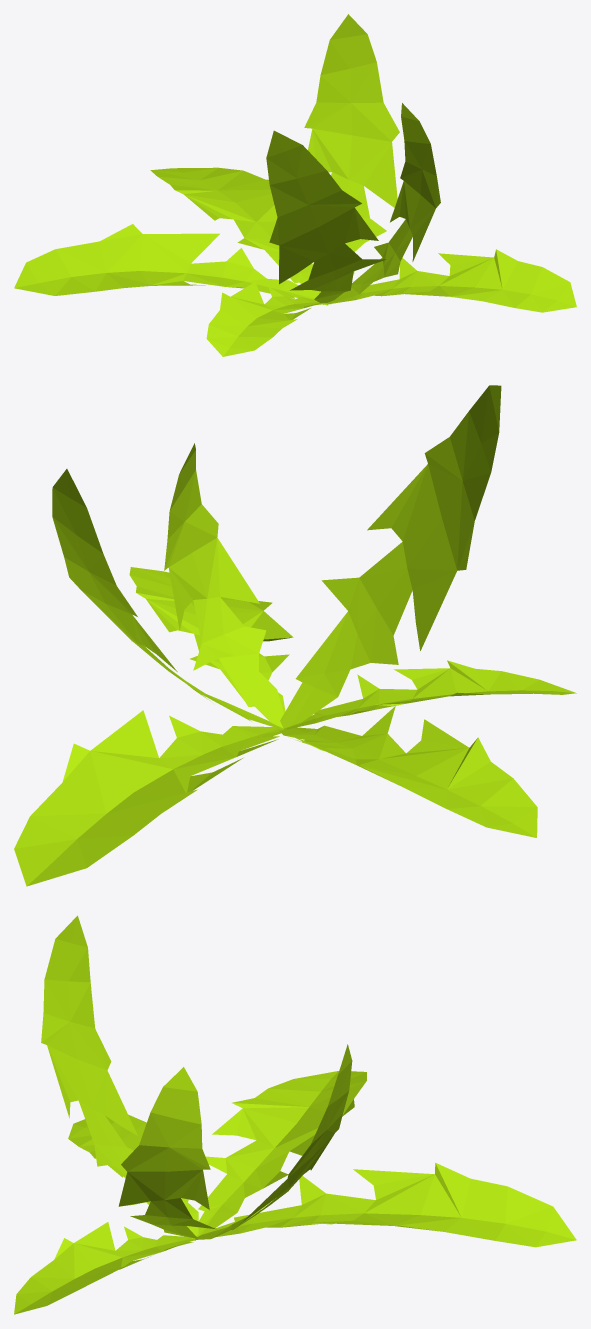
Rendered from plant.dae.
3 renders of one model, top to bottom at view 1: azimuth 30°, elevation 25°; view 2: azimuth 150°, elevation 25°; view 3: azimuth 270°, elevation 25°, orthographic. The views are drawn at different scales.
Visible parts, largest first — view 1: Big_Plant; view 2: Big_Plant; view 3: Big_Plant.
Part boxes in pixels (x1=…): Big_Plant: x1=14, y1=14, x2=576, y2=356; Big_Plant: x1=14, y1=385, x2=576, y2=886; Big_Plant: x1=14, y1=915, x2=576, y2=1314.
Size of the model in its own units: 0.2846 by 0.2912 by 0.1519.
